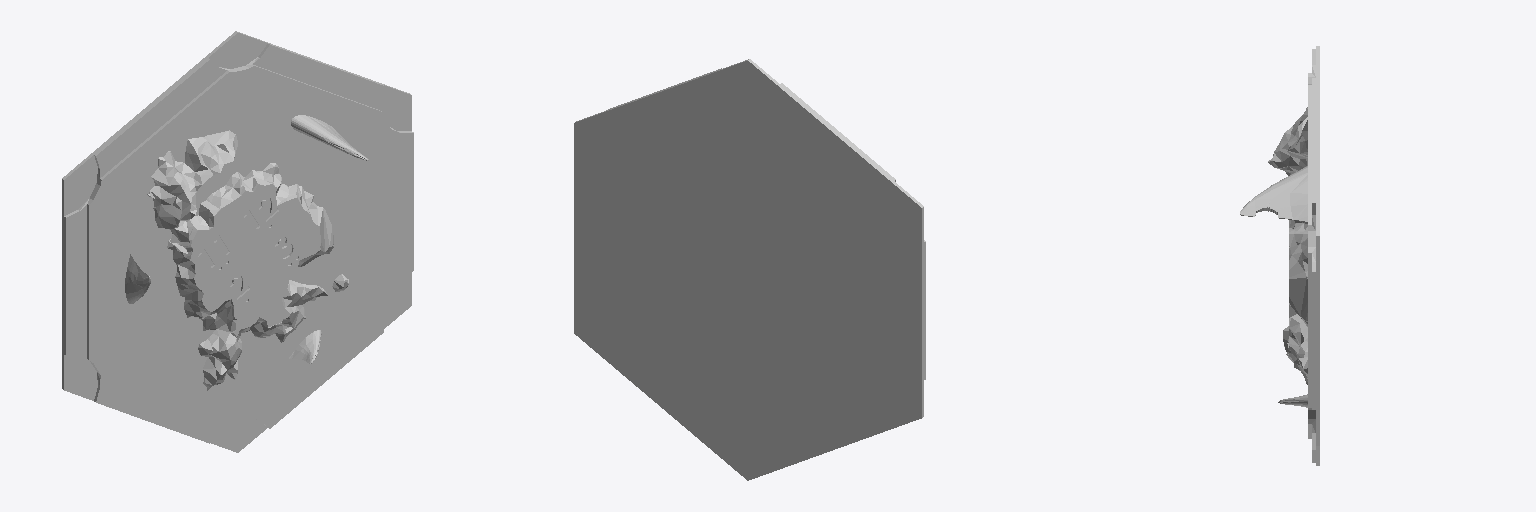
The model's file is Fish2-3-11-12_ver2_rev1.obj.
3 renders of one model, left to right at view 1: azimuth 30°, elevation 25°; view 2: azimuth 150°, elevation 25°; view 3: azimuth 270°, elevation 25°, orthographic.
Parts seen in each view (by area): view 1: <STL_BINARY>; view 2: <STL_BINARY>; view 3: <STL_BINARY>.
Part boxes in pixels (left/top/right/bottom): <STL_BINARY>: left=62, top=31, right=413, bottom=452; <STL_BINARY>: left=574, top=59, right=925, bottom=480; <STL_BINARY>: left=1240, top=46, right=1319, bottom=465.
Bounding box in the file's own units: 79.08 × 91.31 × 15.81.